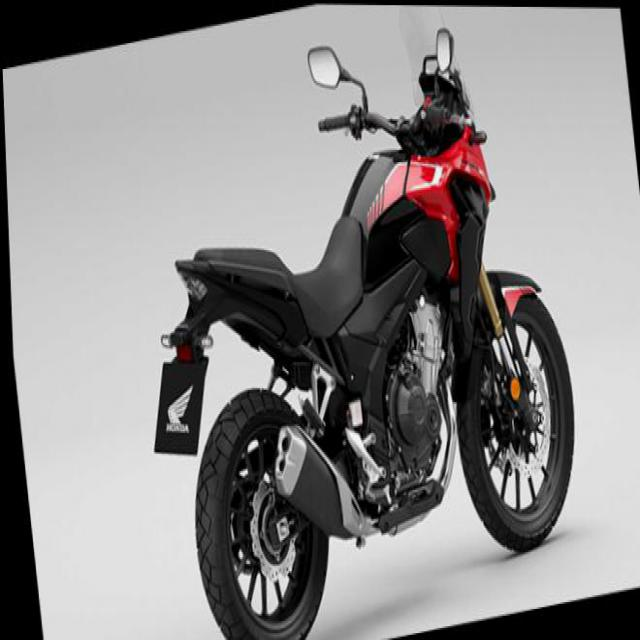CB500X: (94, 0, 595, 639)
